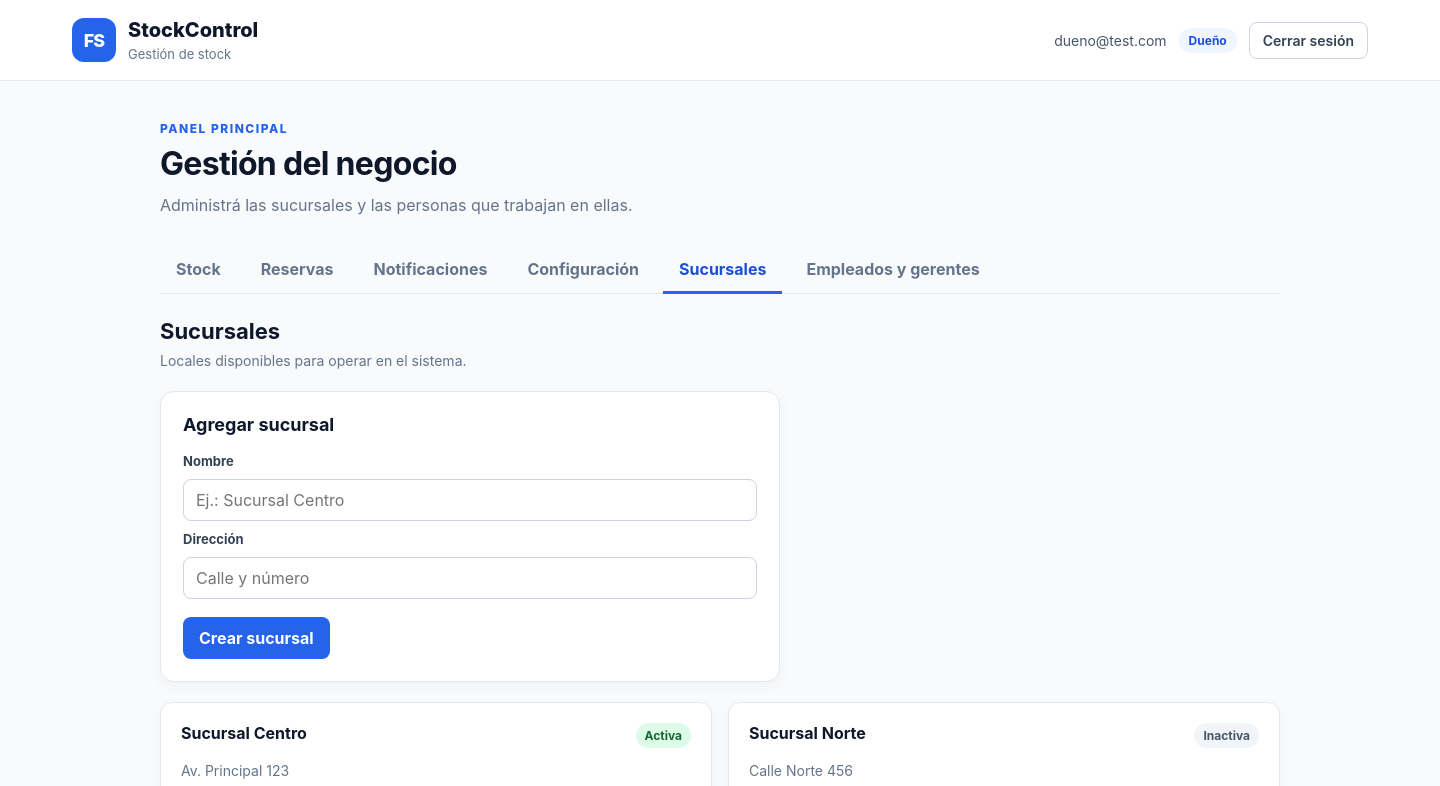
Test case: Dashboard - integración › permite al dueño crear una sucursal
Check: the heading "Sucursal Centro" is shown, box x1=181 y1=723 x2=307 y2=743
Type "  Sucursal Sur  " into the field labelled "Nombre" at (470, 500), box x1=183 y1=479 x2=757 y2=521
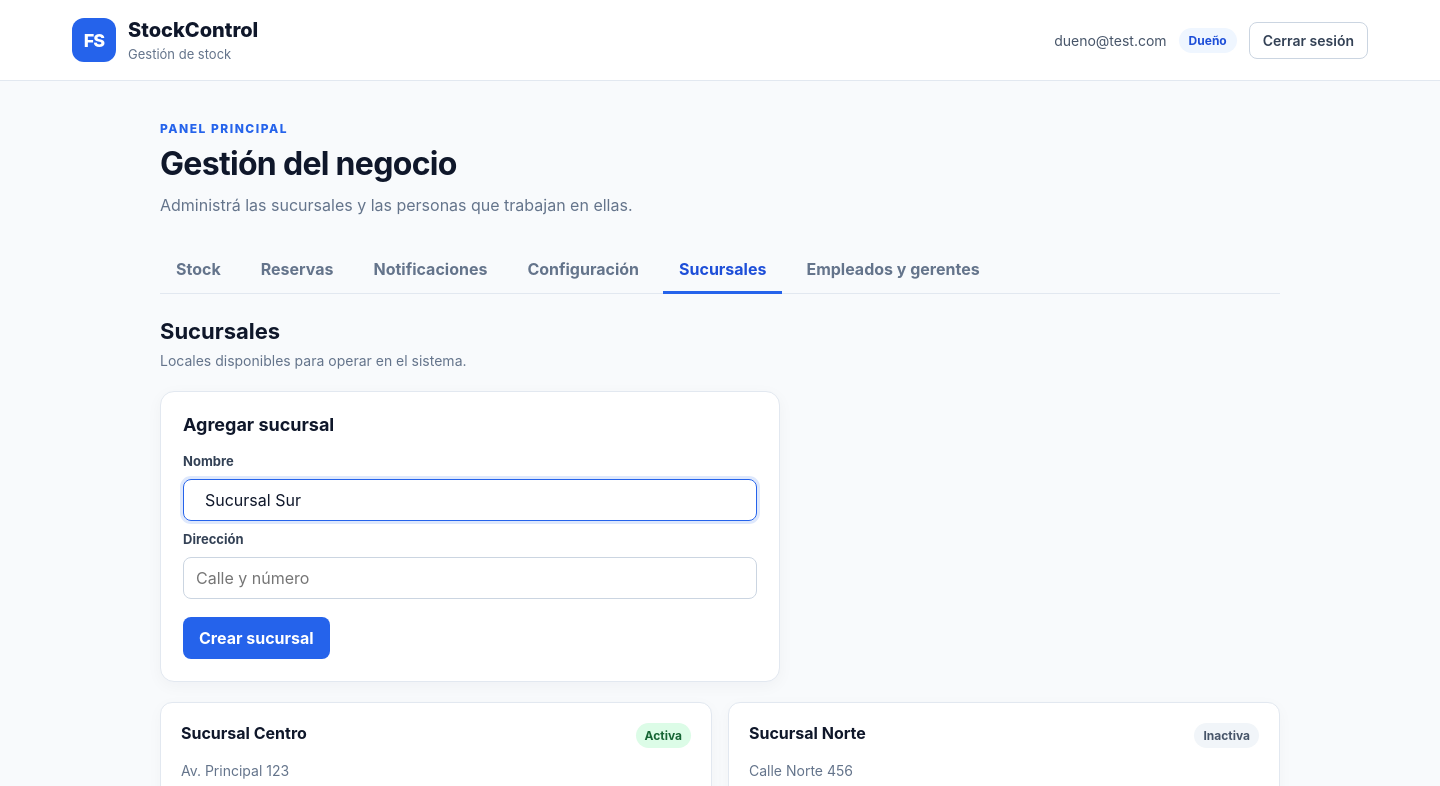
Type "  Calle Sur 789  " into the field labelled "Dirección" at (470, 578), box x1=183 y1=557 x2=757 y2=599
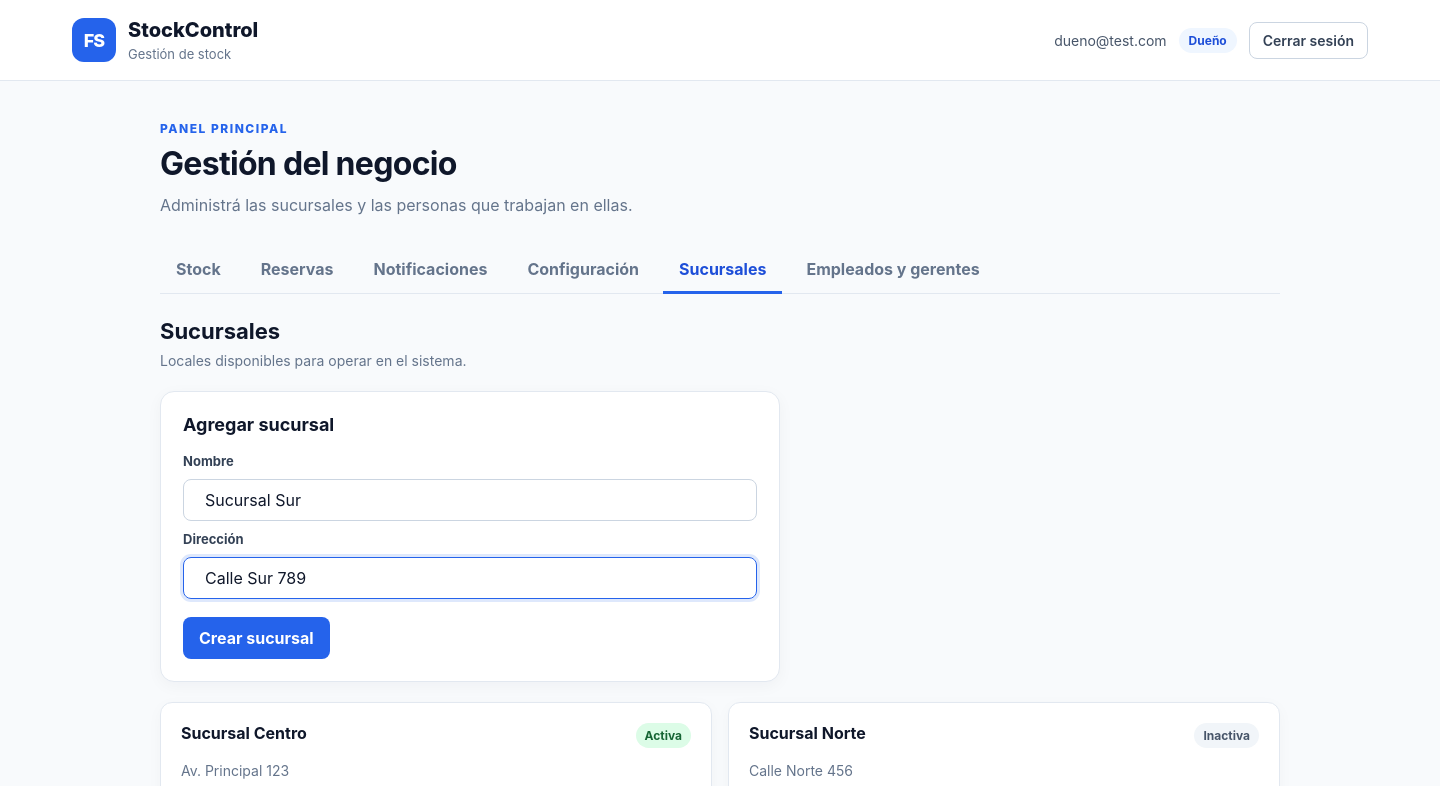
Click the button "Crear sucursal" at (256, 638), box x1=183 y1=617 x2=330 y2=659
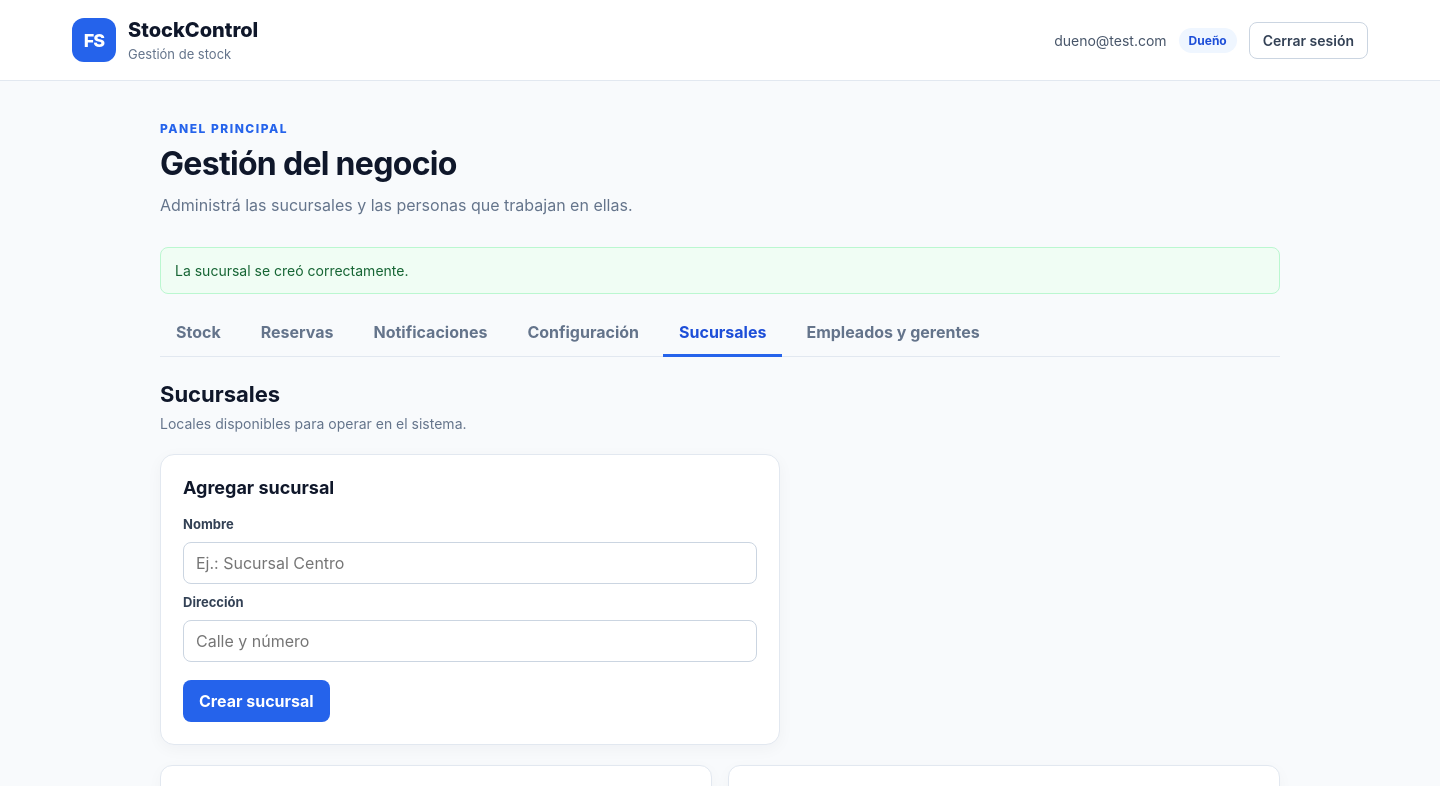
Check: the text "La sucursal se creó correctamente." is shown, box x1=160 y1=247 x2=1280 y2=294
